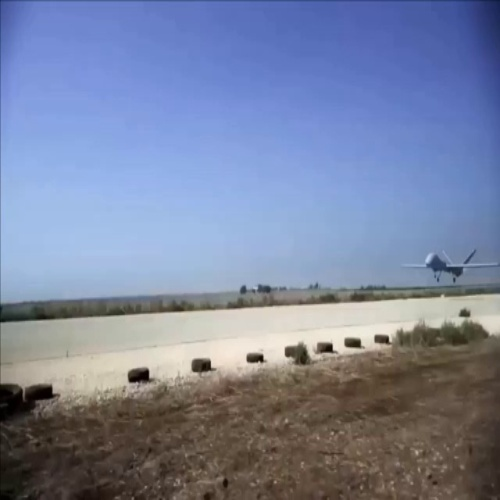uav762: (397, 244, 500, 283)
